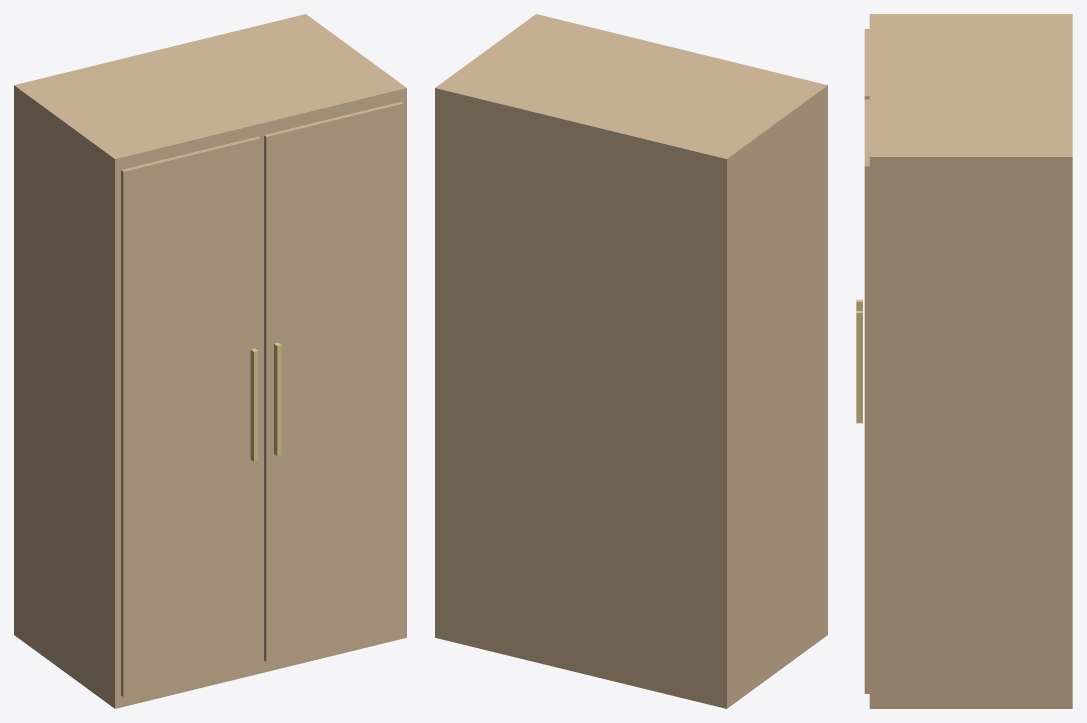
Rendered from WARDROBE001.glb.
The picture shows the model from 3 angles, left to right: view 1: azimuth 30°, elevation 25°; view 2: azimuth 150°, elevation 25°; view 3: azimuth 270°, elevation 25°; orthographic projection.
Visible parts, largest first — view 1: FurnitureRoot; view 2: FurnitureRoot; view 3: FurnitureRoot.
Part boxes in pixels (<box>): FurnitureRoot: <box>14,14,406,708</box>; FurnitureRoot: <box>435,14,827,708</box>; FurnitureRoot: <box>856,14,1072,708</box>.
Size of the model in its own units: 100 by 180 by 64.
